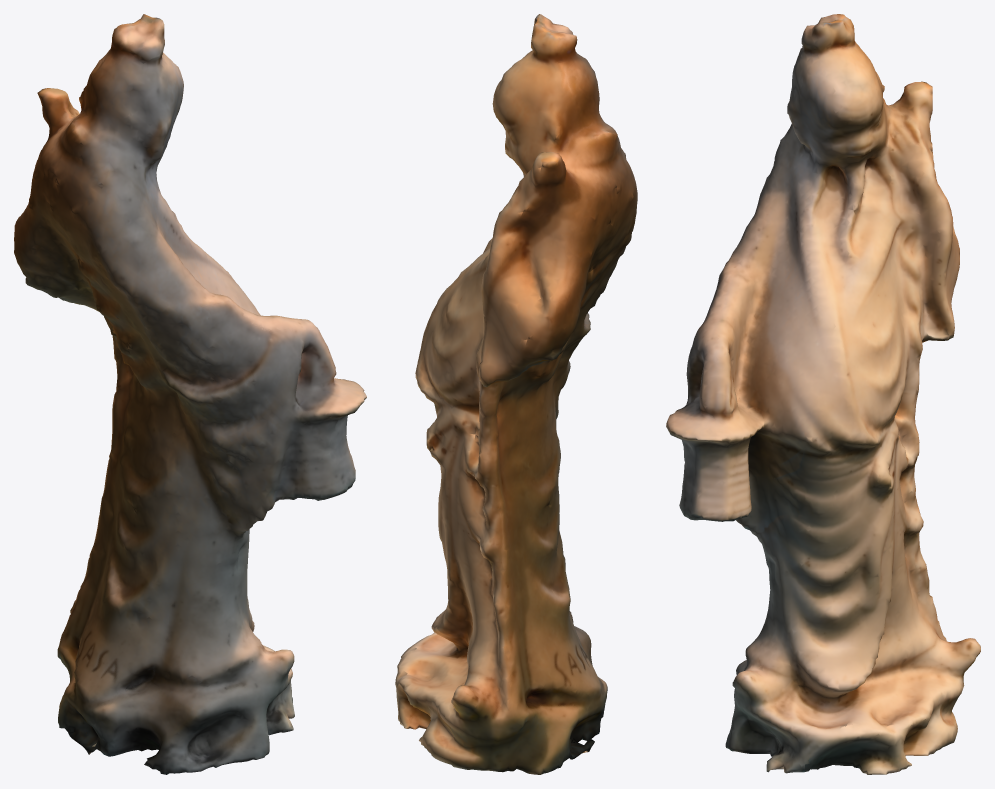
File: wiseman.fbx
The picture shows the model from 3 angles, left to right: view 1: azimuth 30°, elevation 25°; view 2: azimuth 150°, elevation 25°; view 3: azimuth 270°, elevation 25°; orthographic projection. The views are drawn at different scales.
Parts seen in each view (by area): view 1: wiseman_RCFINAL; view 2: wiseman_RCFINAL; view 3: wiseman_RCFINAL.
Boxes of the visible parts, x1,y1,x2,y2 form: wiseman_RCFINAL: [14, 14, 366, 774]; wiseman_RCFINAL: [395, 14, 637, 774]; wiseman_RCFINAL: [666, 14, 980, 774].
Bounding box in the file's own units: 49.54 × 147 × 58.96.
